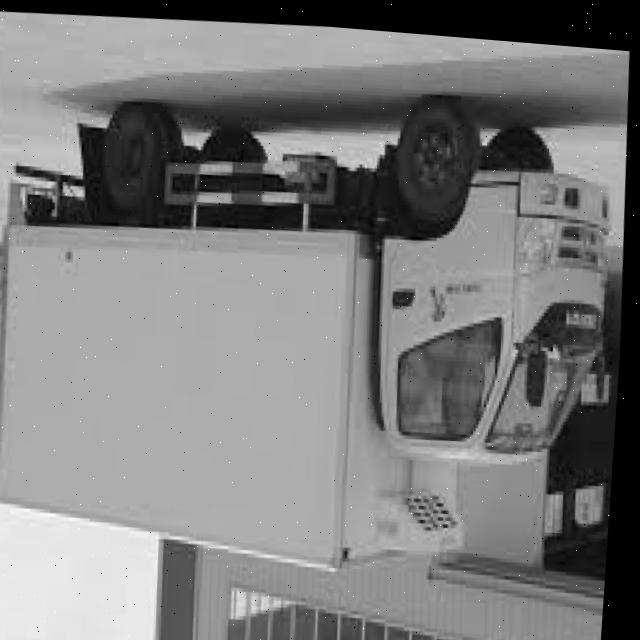truck: (328, 72, 638, 490)
